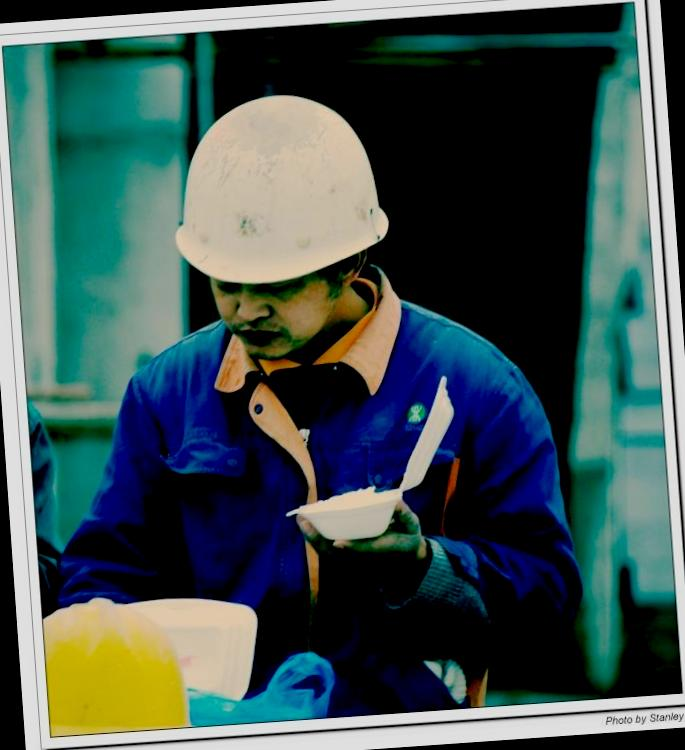helmet: (162, 91, 397, 296)
no_vest: (112, 322, 565, 729)
person: (84, 82, 572, 723)
